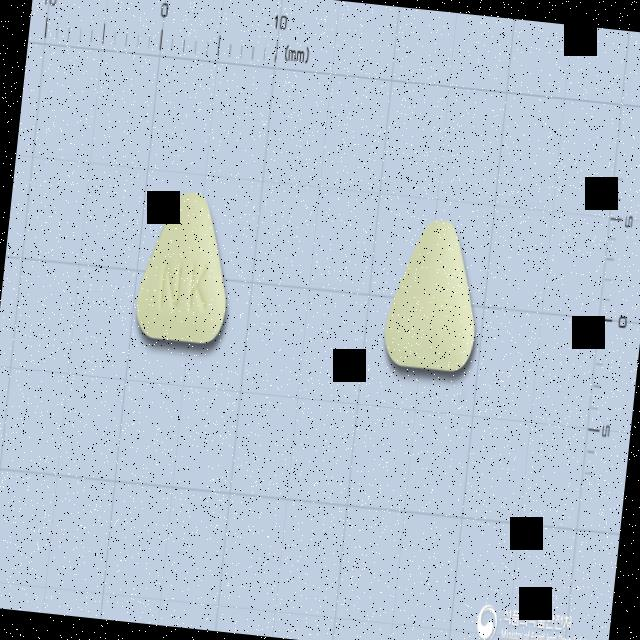Aris: (129, 178, 242, 360)
